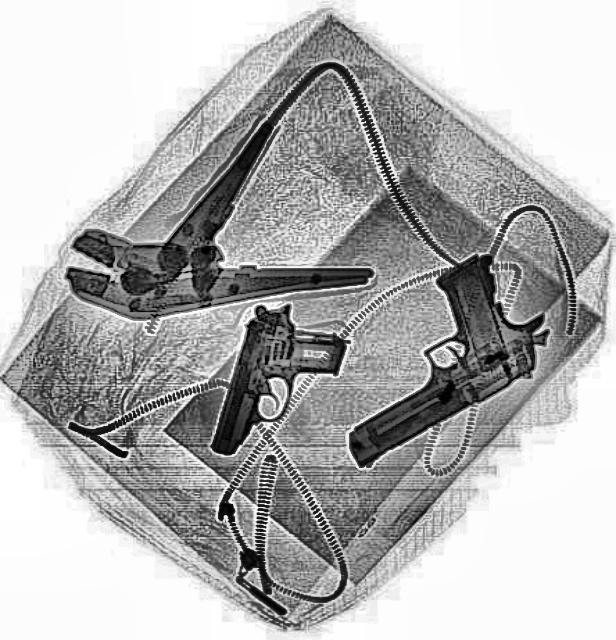Gun: (289, 241, 567, 467), (207, 296, 353, 474)
